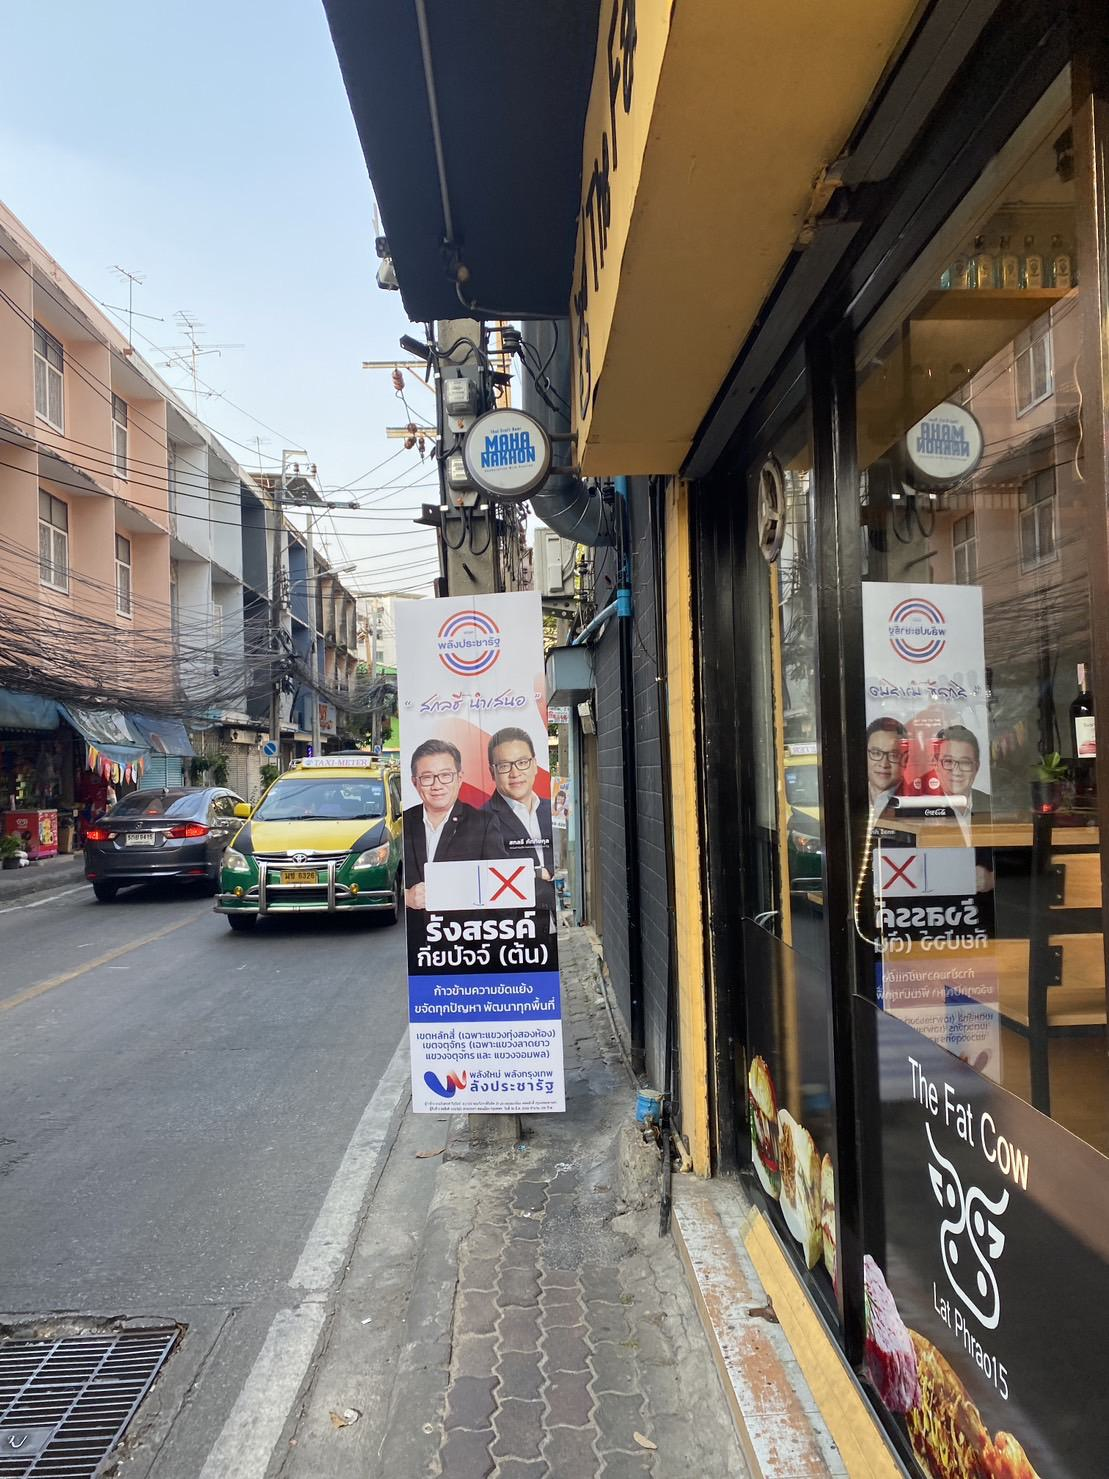Banner: (381, 583, 579, 1116)
